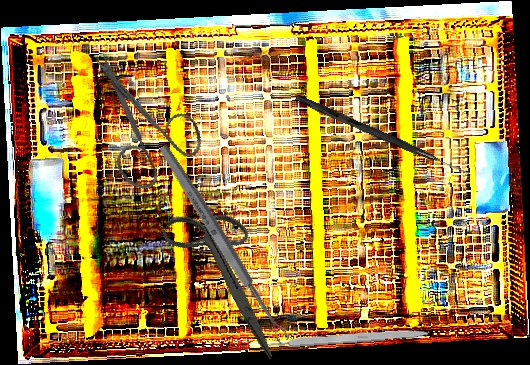Hook Surgical: (293, 94, 472, 177)
Iris Scissors: (133, 192, 321, 361), (57, 49, 220, 203)
Scalpel Handle: (268, 326, 431, 349)
Surgical Spoon: (156, 142, 291, 346)
